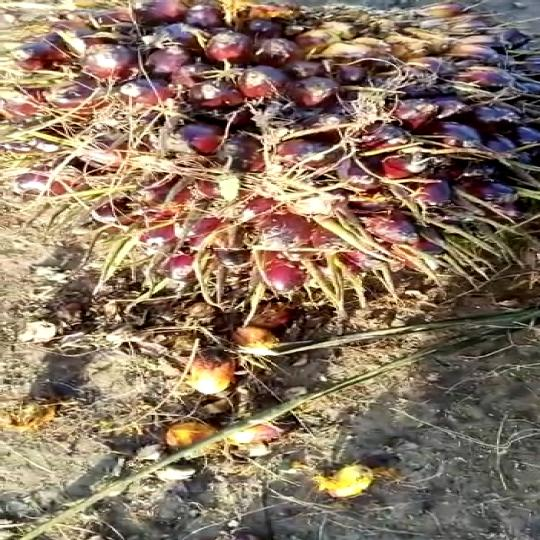mentah: (25, 0, 540, 321)
